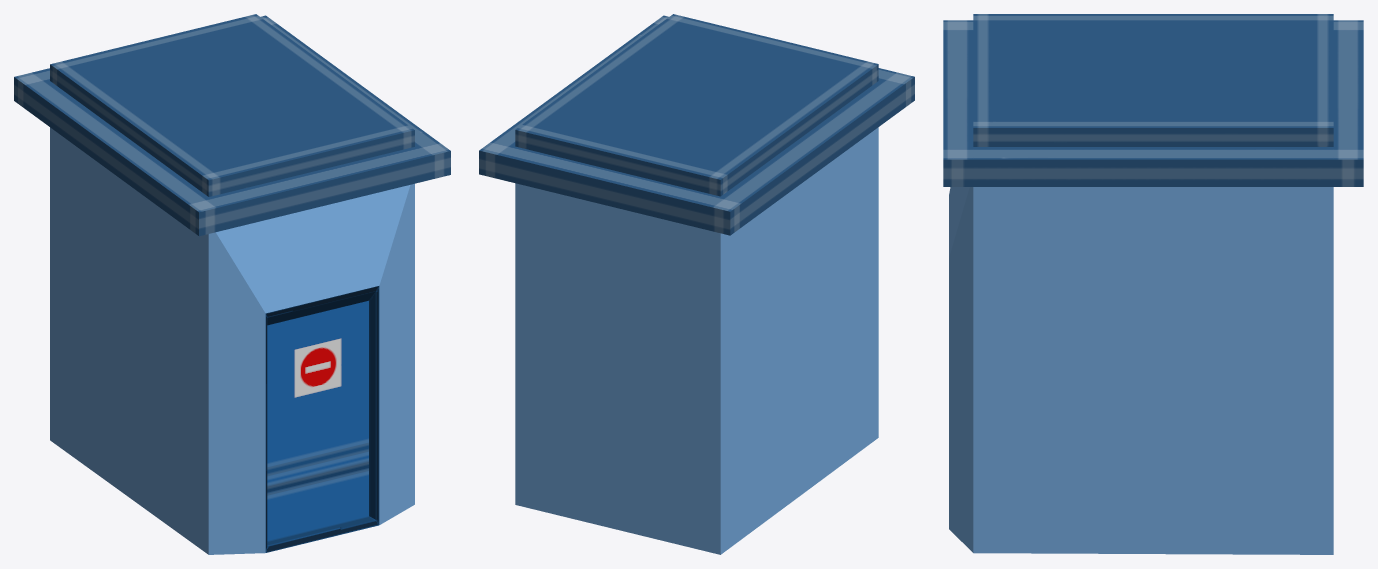
File: StoreRoom.fbx
3 views of the same model, side by side, from view 1: azimuth 30°, elevation 25°; view 2: azimuth 150°, elevation 25°; view 3: azimuth 270°, elevation 25° (orthographic). The views are drawn at different scales.
Parts seen in each view (by area): view 1: StoreRoom:Mesh; view 2: StoreRoom:Mesh; view 3: StoreRoom:Mesh.
Part boxes in pixels (x1,y1,x2,y2): StoreRoom:Mesh: [14, 14, 450, 554]; StoreRoom:Mesh: [479, 14, 914, 554]; StoreRoom:Mesh: [943, 14, 1363, 554].
Size of the model in its own units: 11 by 15.7 by 14.
1 material, 1 textured.
